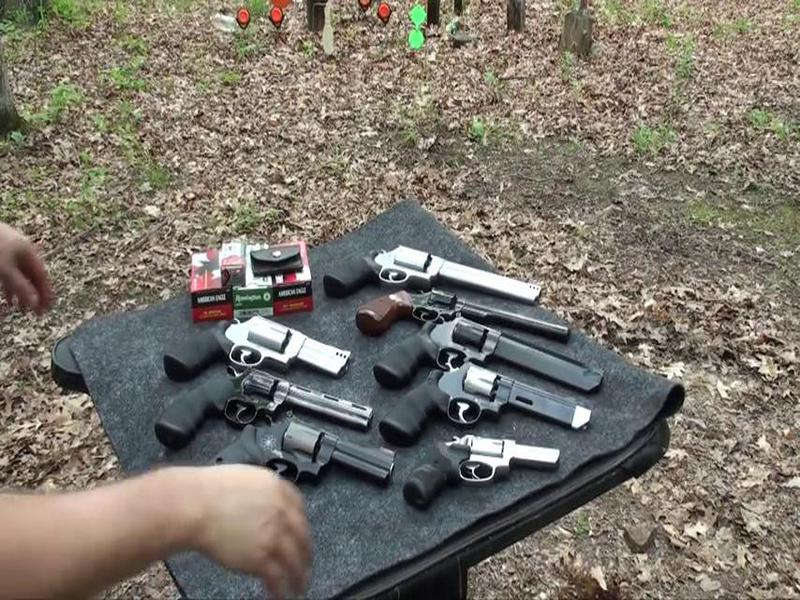Revolver: (366, 312, 606, 398)
